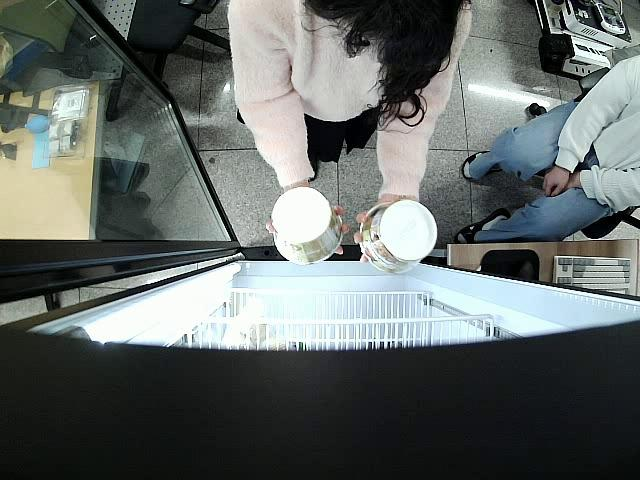03_chapagetti_L: (273, 188, 343, 263), (362, 202, 436, 272)
